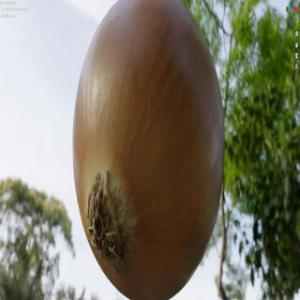onion: (73, 0, 227, 296)
